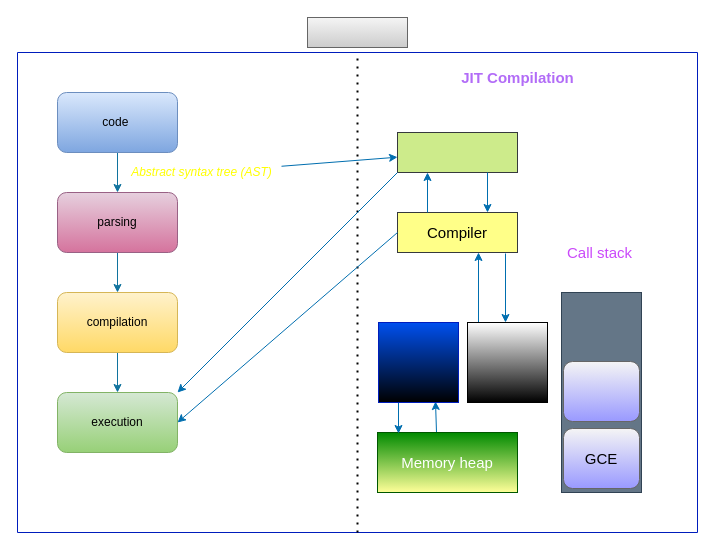
This 715x552 diagram has some shape labels left out. The shapes that lost their labels are listed below. From the top down, each one's centre as x and y in pixels, then its label:
the point at 357,32: JS Engine
the point at 457,152: Interpreter
the point at 418,362: Garbage collection
the point at 507,362: Optimizer
